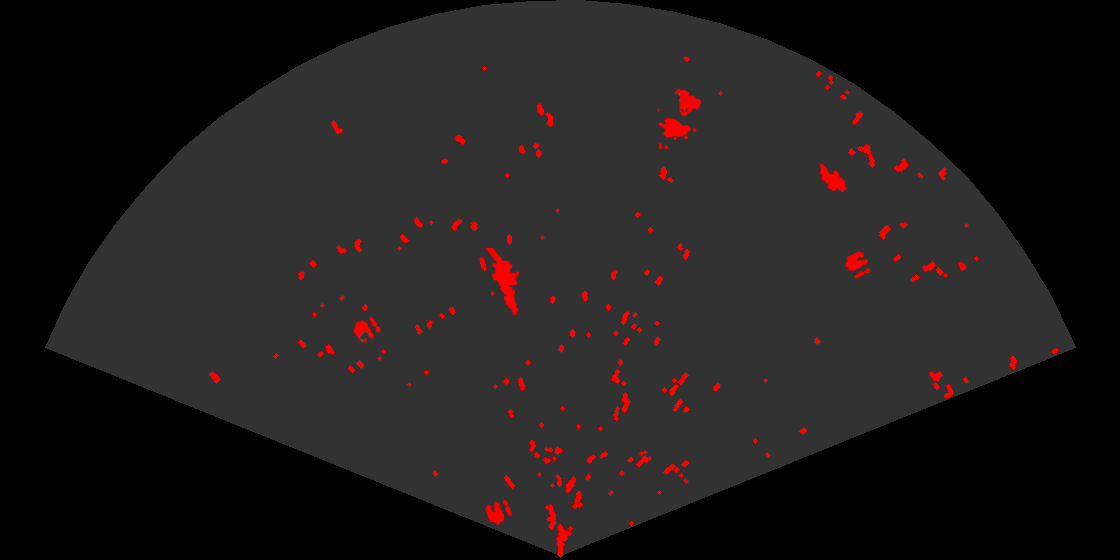AUV: (818, 162, 848, 194)
ball: (352, 315, 382, 345), (843, 250, 872, 280), (484, 498, 514, 526)
cage: (658, 87, 703, 149)
frogman: (483, 248, 521, 317)
